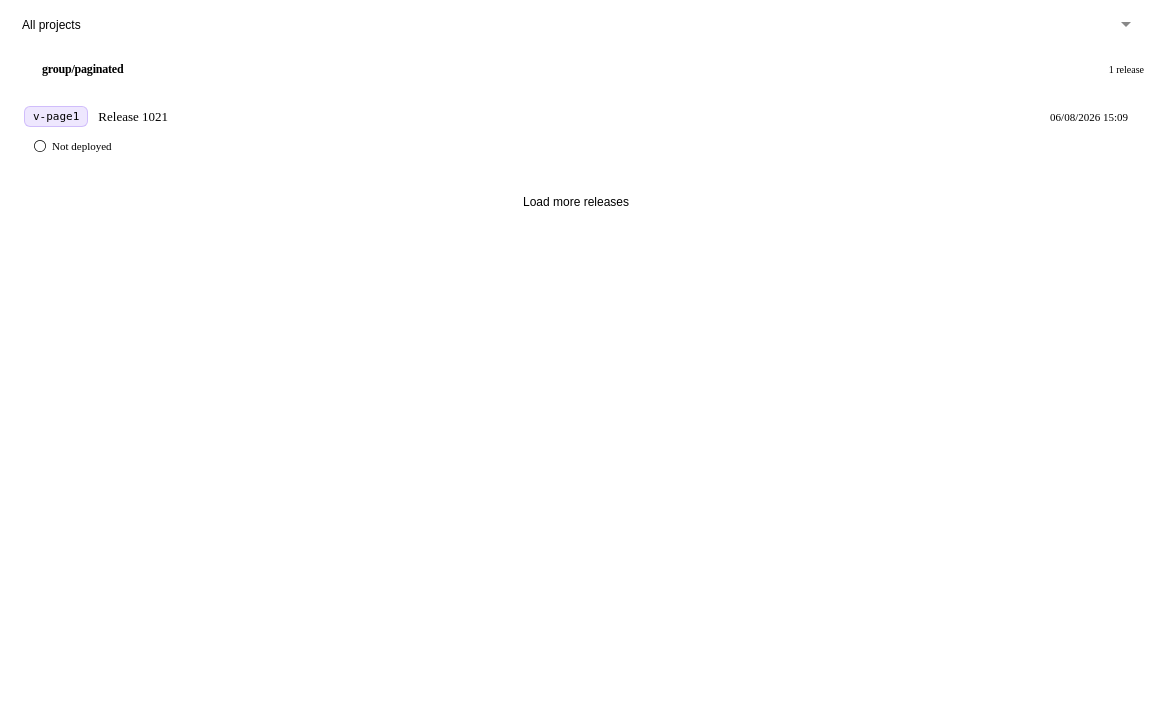
POView › pagination ("Load more releases") › calls getPOReleases with the project id, page 2, and perPage 5 on the first click, and appends results
Expected: the text "v-page1" is shown, [24,106,88,127]
Click the button "Load more releases". click: x=576, y=202
box: [8,185,1144,219]
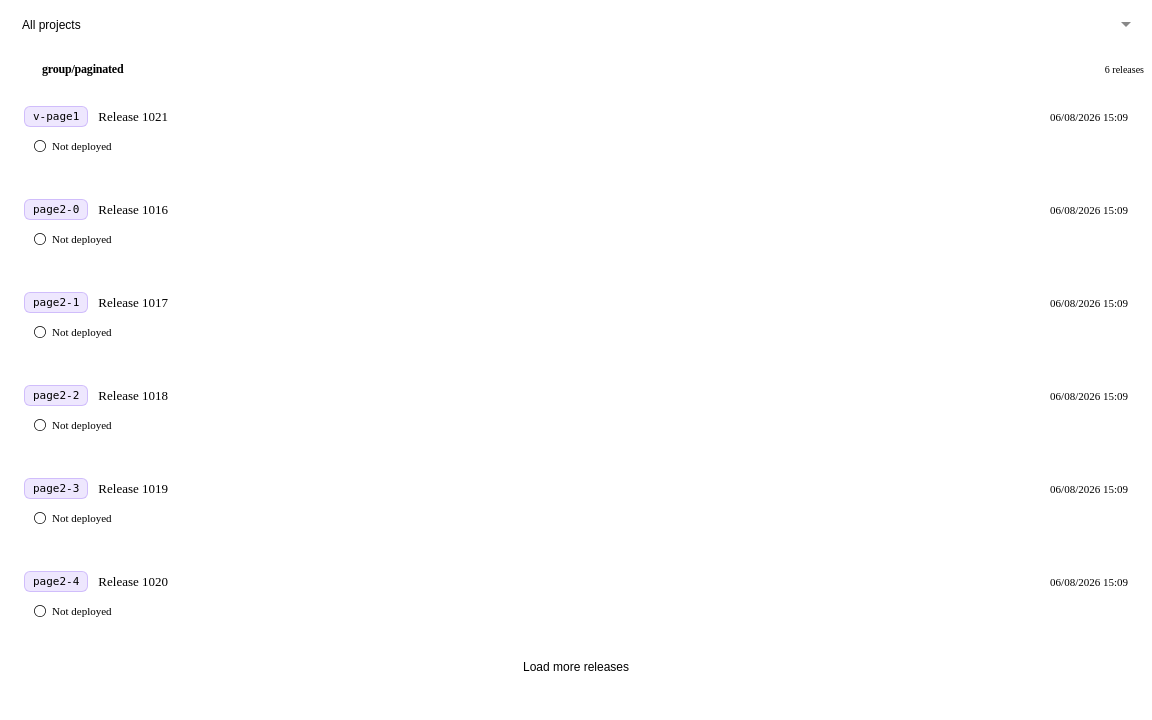
Expected: the text "page2-0" is shown, [24,199,88,220]
Expected: the text "page2-4" is shown, [24,571,88,592]
Expected: the text "6 releases" is shown, [1105,64,1144,74]
